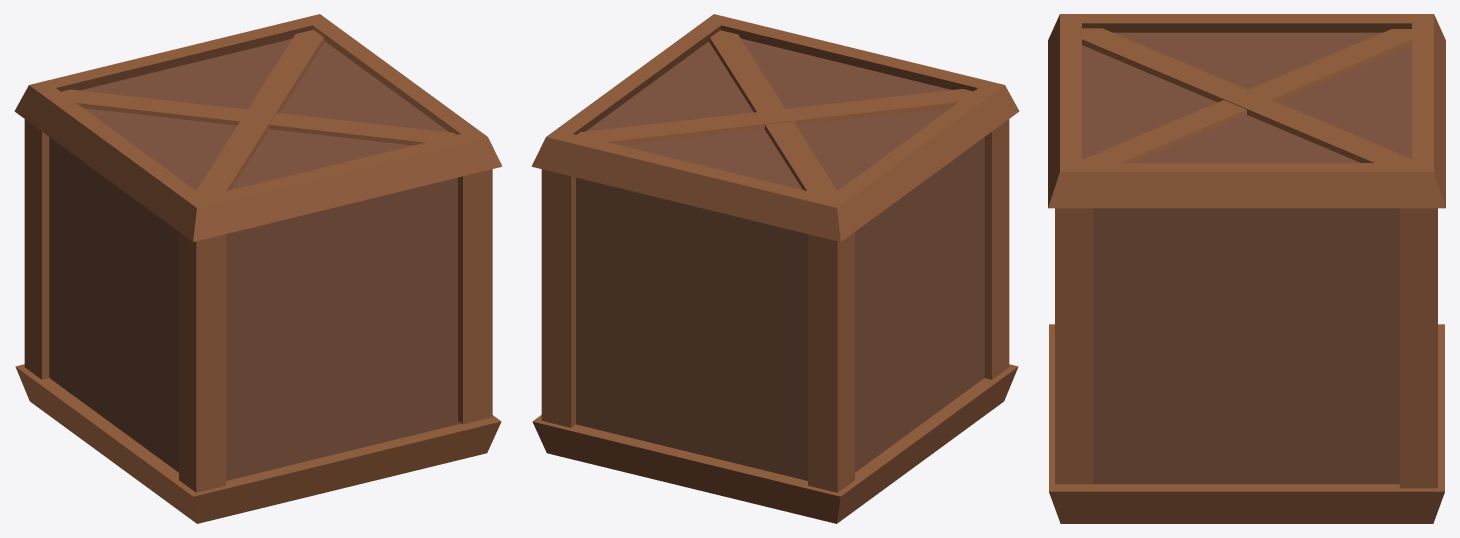
The model's file is Caixa_5.fbx.
The picture shows the model from 3 angles, left to right: view 1: azimuth 30°, elevation 25°; view 2: azimuth 150°, elevation 25°; view 3: azimuth 270°, elevation 25°; orthographic projection. The views are drawn at different scales.
Visible parts, largest first — view 1: Caixa_5; view 2: Caixa_5; view 3: Caixa_5.
Part boxes in pixels (x1,y1,x2,y2): Caixa_5: (14,14,502,523); Caixa_5: (531,14,1019,523); Caixa_5: (1048,14,1445,523).
Bounding box in the file's own units: 0.9432 × 0.9432 × 0.9214.
